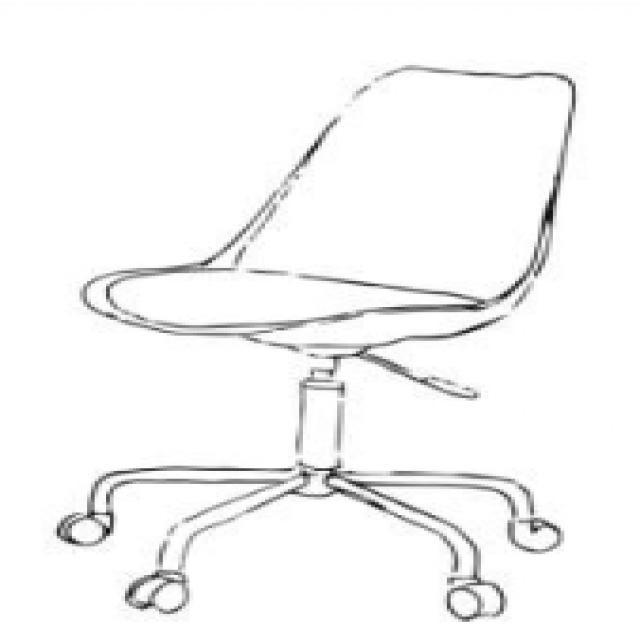5_Star_Base: (39, 455, 572, 631)
Backrest: (201, 66, 578, 305)
Base: (279, 358, 355, 504)
Caster_Wheel: (113, 563, 197, 620), (433, 571, 514, 628), (494, 507, 572, 561), (42, 502, 124, 553)
Control_Mechanism: (335, 344, 496, 416)
Seat: (78, 266, 506, 351)
